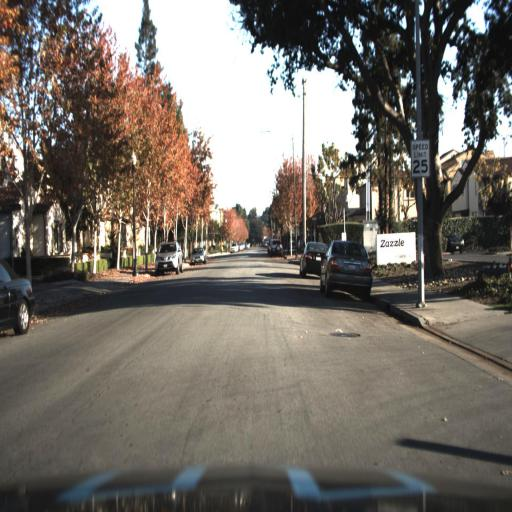car: (318, 237, 375, 297), (0, 255, 35, 335), (298, 235, 331, 278), (152, 236, 184, 276), (440, 232, 469, 260), (188, 248, 207, 270), (446, 232, 465, 254), (270, 235, 284, 255), (227, 237, 238, 257)
